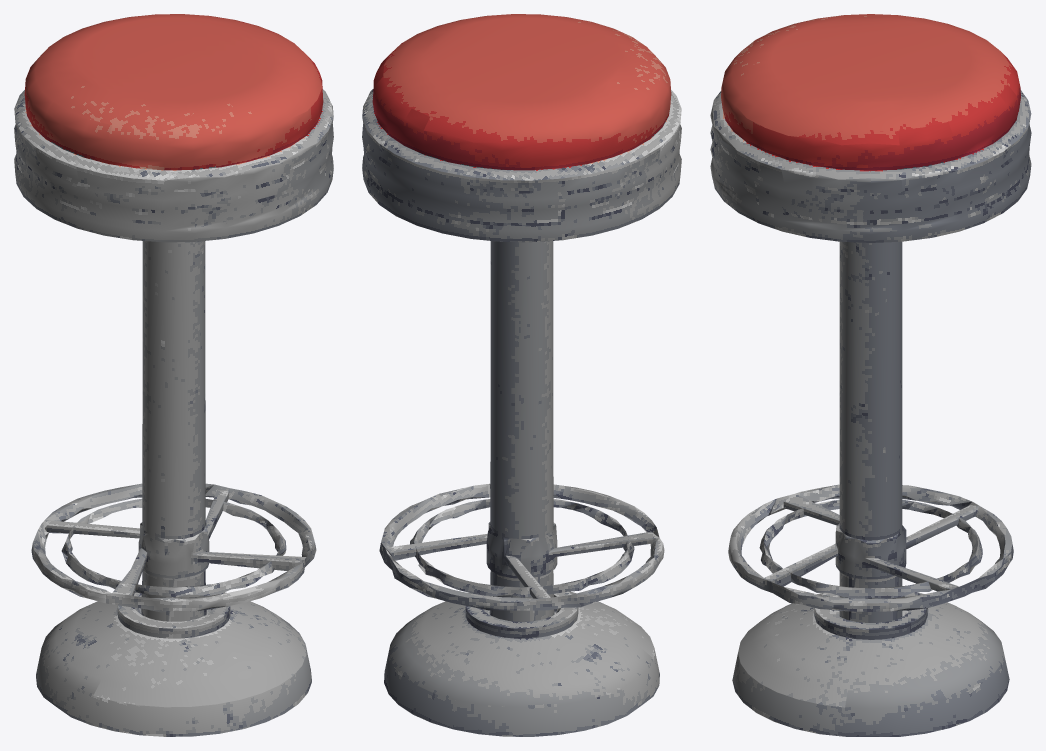
Rendered from stool_retro.glb.
3 renders of one model, left to right at view 1: azimuth 30°, elevation 25°; view 2: azimuth 150°, elevation 25°; view 3: azimuth 270°, elevation 25°, orthographic.
Parts seen in each view (by area): view 1: mesh; view 2: mesh; view 3: mesh.
Part boxes in pixels (x1,y1,x2,y2): mesh: [14, 14, 333, 736]; mesh: [362, 14, 681, 736]; mesh: [710, 14, 1031, 736].
Size of the model in its own units: 0.3288 by 0.7 by 0.3288.
1 material, 1 textured.
